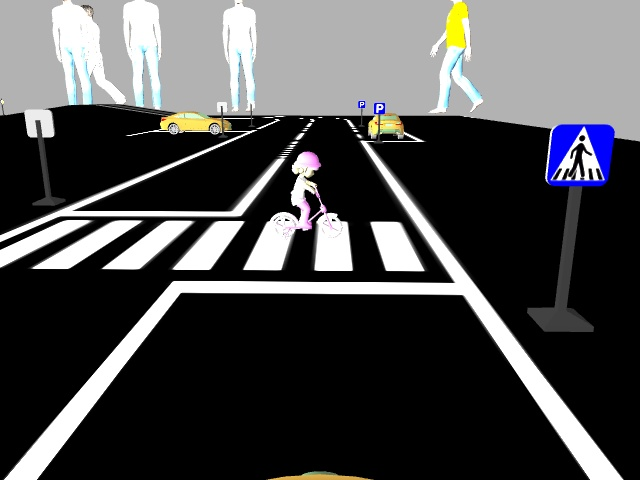Crosswalk: (546, 122, 614, 188)
Parking: (371, 100, 386, 113), (356, 99, 367, 108)
Pedestrian: (263, 149, 344, 241)
